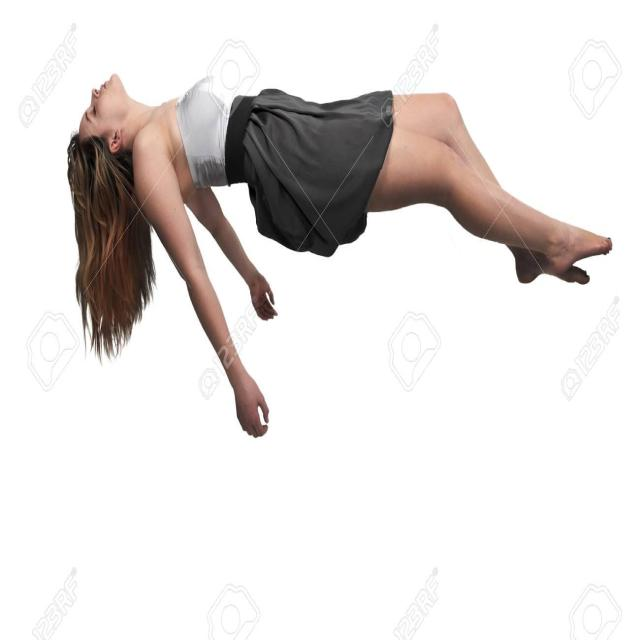human: (59, 57, 618, 418)
